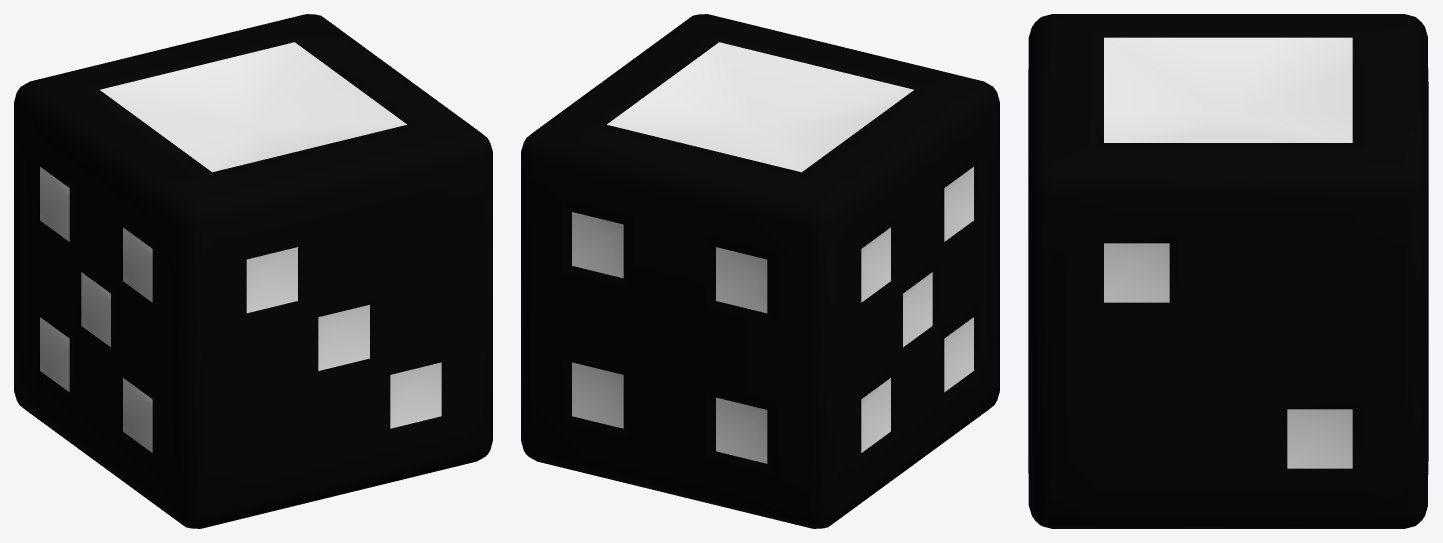
The model's file is dice.glb.
The picture shows the model from 3 angles, left to right: view 1: azimuth 30°, elevation 25°; view 2: azimuth 150°, elevation 25°; view 3: azimuth 270°, elevation 25°; orthographic projection. The views are drawn at different scales.
Visible parts, largest first — view 1: Cube; view 2: Cube; view 3: Cube.
Boxes of the visible parts, <box> form: Cube: <box>14,14,492,528</box>; Cube: <box>521,14,999,528</box>; Cube: <box>1028,14,1428,528</box>.
Bounding box in the file's own units: 2 × 2 × 2.
1 material, 1 textured.
